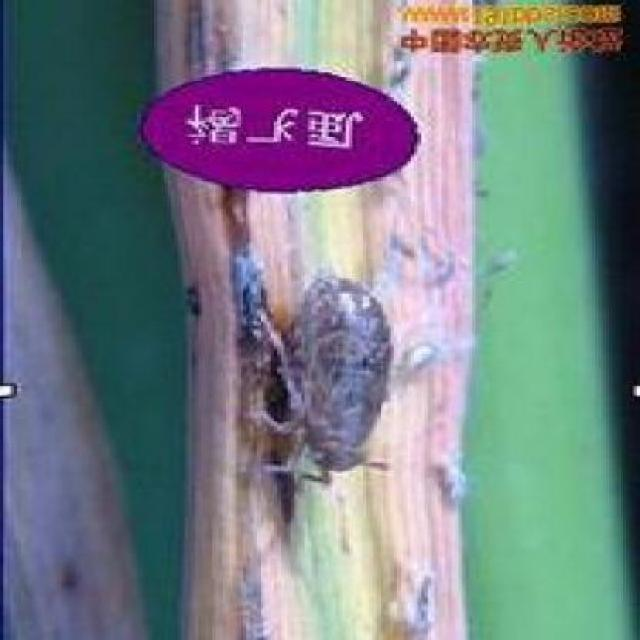brown-planthopper: (260, 274, 406, 477)
